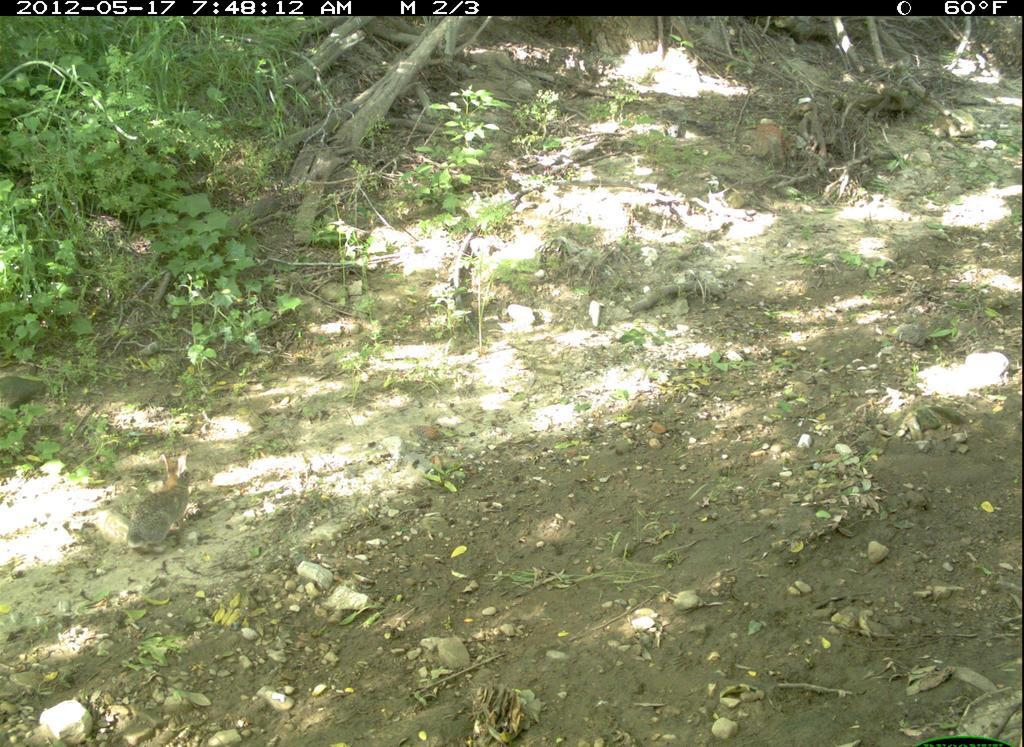rabbit: (114, 441, 200, 559)
